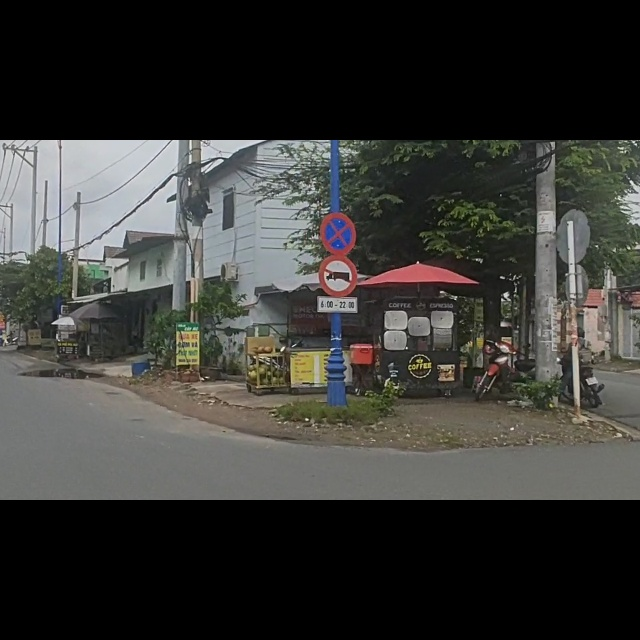bien_cam: (320, 127, 356, 204), (319, 206, 357, 276)
